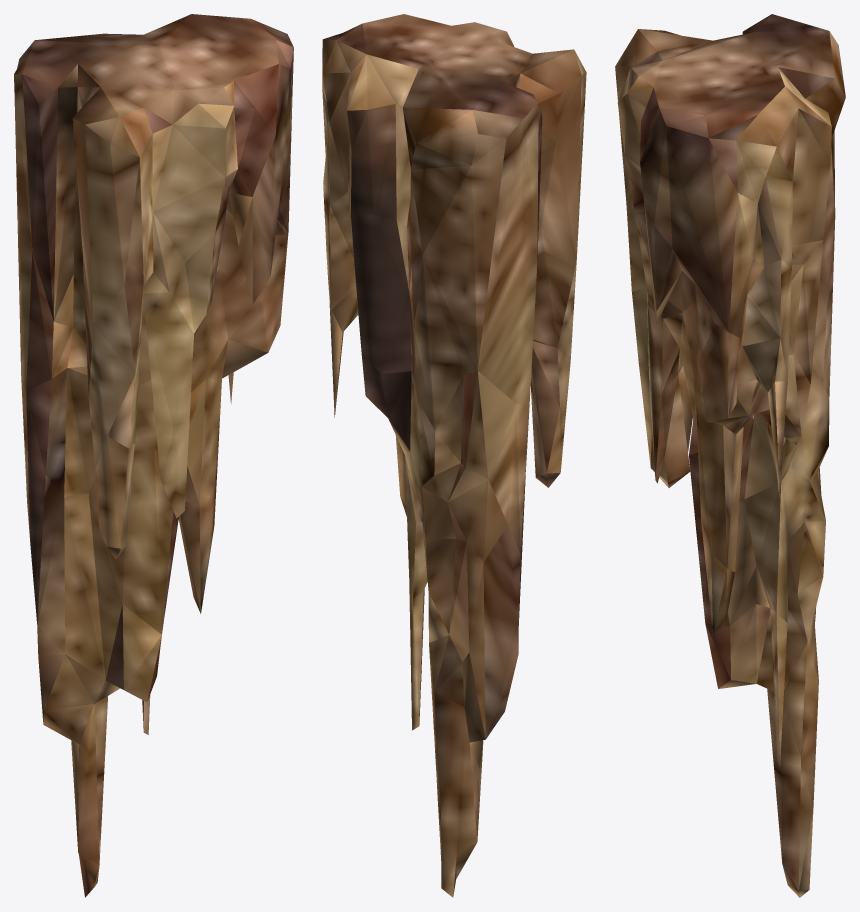
The model's file is CaveRock.obj.
3 renders of one model, left to right at view 1: azimuth 30°, elevation 25°; view 2: azimuth 150°, elevation 25°; view 3: azimuth 270°, elevation 25°, orthographic. The views are drawn at different scales.
Visible parts, largest first — view 1: CaveRockPack1_High3; view 2: CaveRockPack1_High3; view 3: CaveRockPack1_High3.
Part boxes in pixels (x1,y1,x2,y2): CaveRockPack1_High3: (14,14,293,897); CaveRockPack1_High3: (322,14,586,897); CaveRockPack1_High3: (615,14,845,897).
Size of the model in its own units: 13.76 by 45.99 by 11.19.
1 material, 1 textured.
